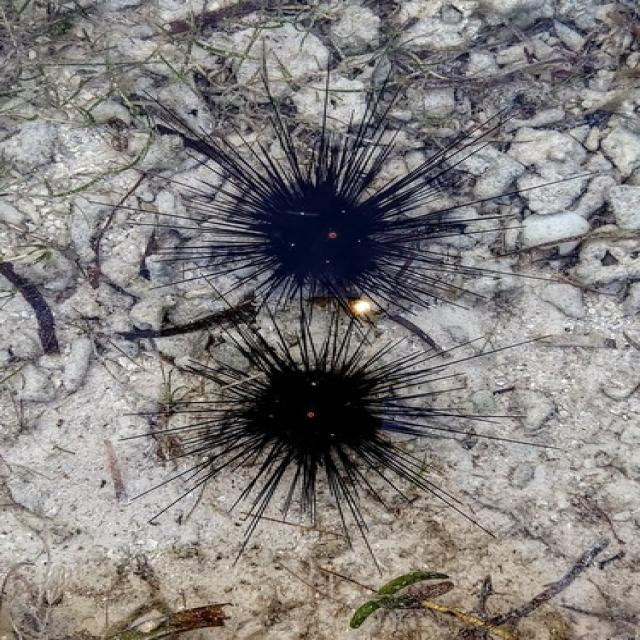Urchin: (85, 53, 618, 325), (118, 273, 570, 572)
